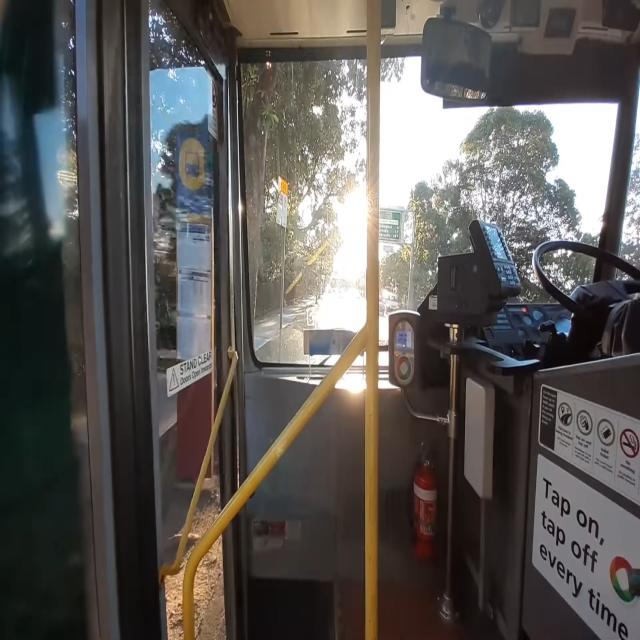bus-door: (36, 1, 252, 640)
